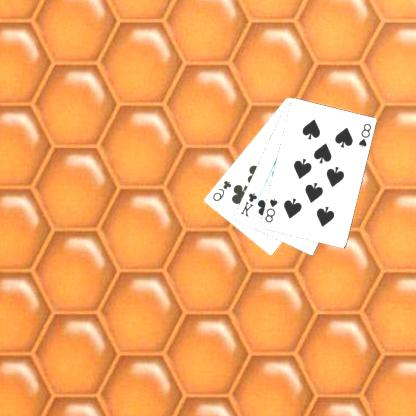8S: (264, 196, 280, 224), (358, 121, 374, 148)
9C: (211, 178, 234, 202)
KC: (239, 190, 264, 218)
